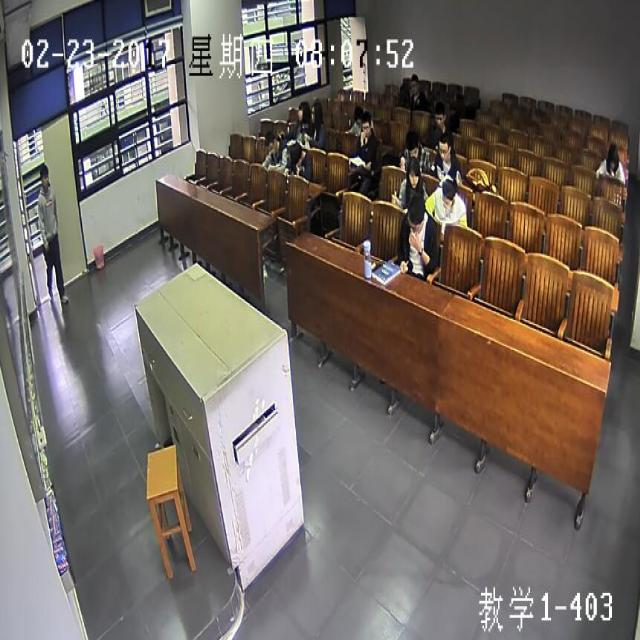person: (407, 196, 423, 231), (441, 178, 455, 210), (404, 130, 420, 156), (38, 158, 51, 188), (360, 108, 372, 138), (308, 98, 321, 125), (407, 159, 419, 188), (438, 134, 451, 160), (605, 144, 618, 168), (352, 102, 363, 127), (434, 102, 445, 125), (296, 99, 307, 120), (265, 133, 275, 153), (288, 141, 298, 161), (410, 71, 417, 90)
